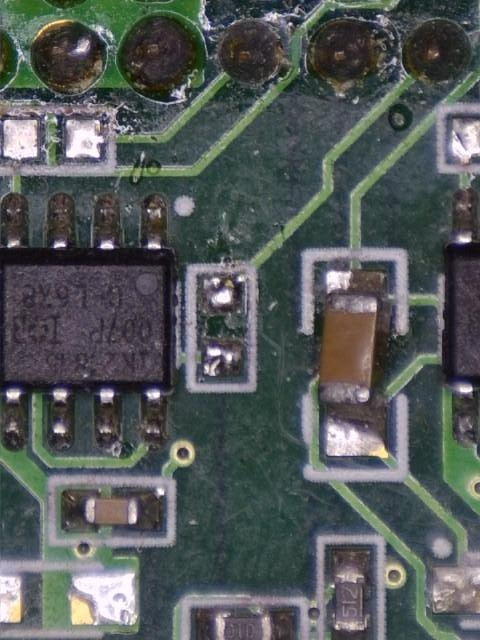pcb_defect: (319, 270, 390, 459)
